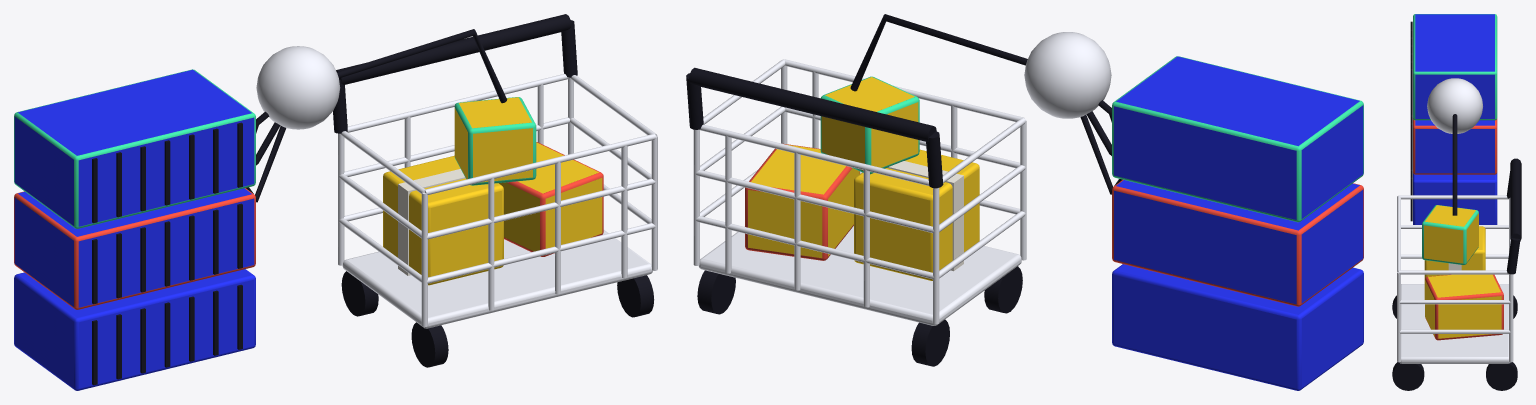
The model's file is shop.glb.
3 renders of one model, left to right at view 1: azimuth 30°, elevation 25°; view 2: azimuth 150°, elevation 25°; view 3: azimuth 270°, elevation 25°, orthographic. The views are drawn at different scales.
Visible parts, largest first — view 1: containers, cart, bob_parcels, hub, wheels, wires; view 2: containers, cart, bob_parcels, hub, wheels, wires; view 3: containers, cart, bob_parcels, hub, wheels, wires.
Part boxes in pixels (x1,y1,x2,y2): containers: (14,69,255,390); cart: (333,14,657,328); bob_parcels: (383,97,603,285); hub: (256,46,340,129); wheels: (341,271,654,367); wires: (246,29,507,202); containers: (1112,56,1363,390); cart: (686,59,1026,325); bob_parcels: (745,76,979,280); hub: (1024,32,1111,118); wheels: (697,266,1022,366); wires: (850,14,1122,194); containers: (1410,14,1497,224); cart: (1397,158,1521,363); bob_parcels: (1422,205,1503,340); hub: (1427,78,1482,133); wheels: (1392,295,1517,390); wires: (1452,114,1457,215).
Size of the model in its own units: 9.5 by 4.94 by 2.76.
